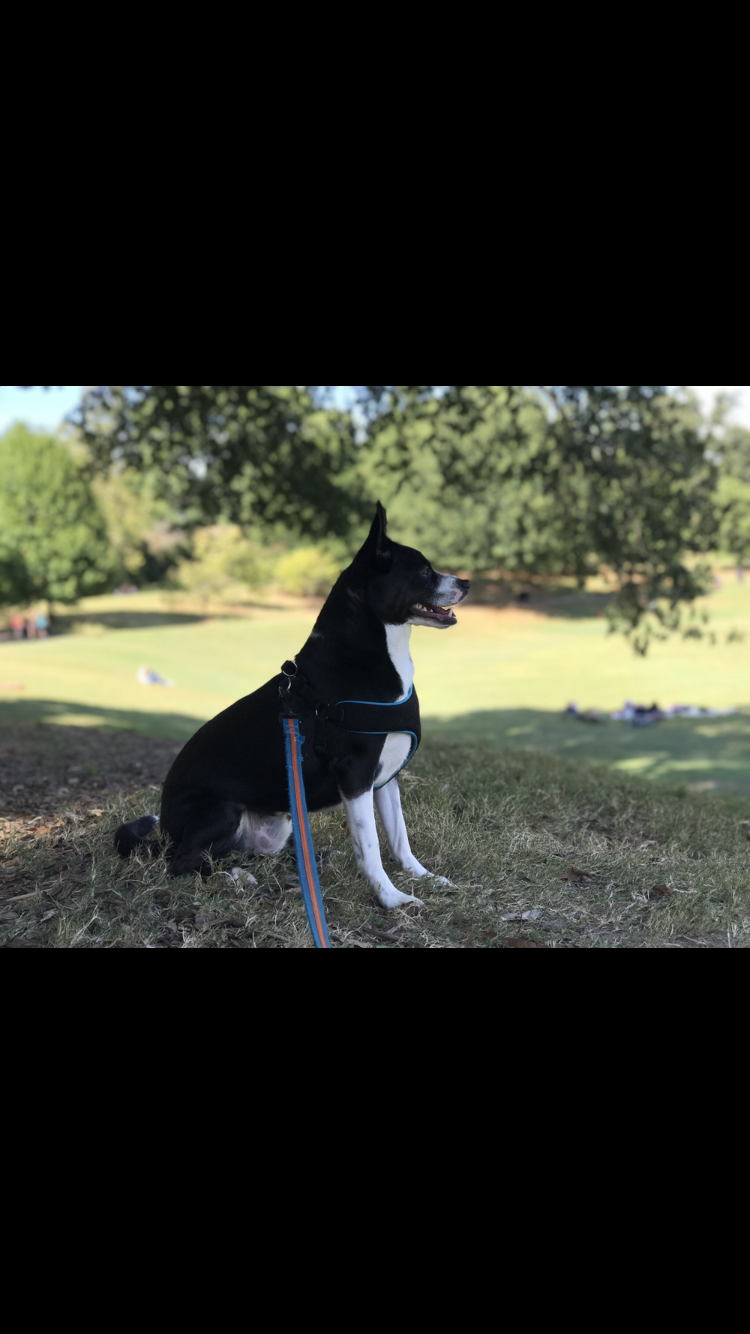Harley: (122, 492, 521, 900)
